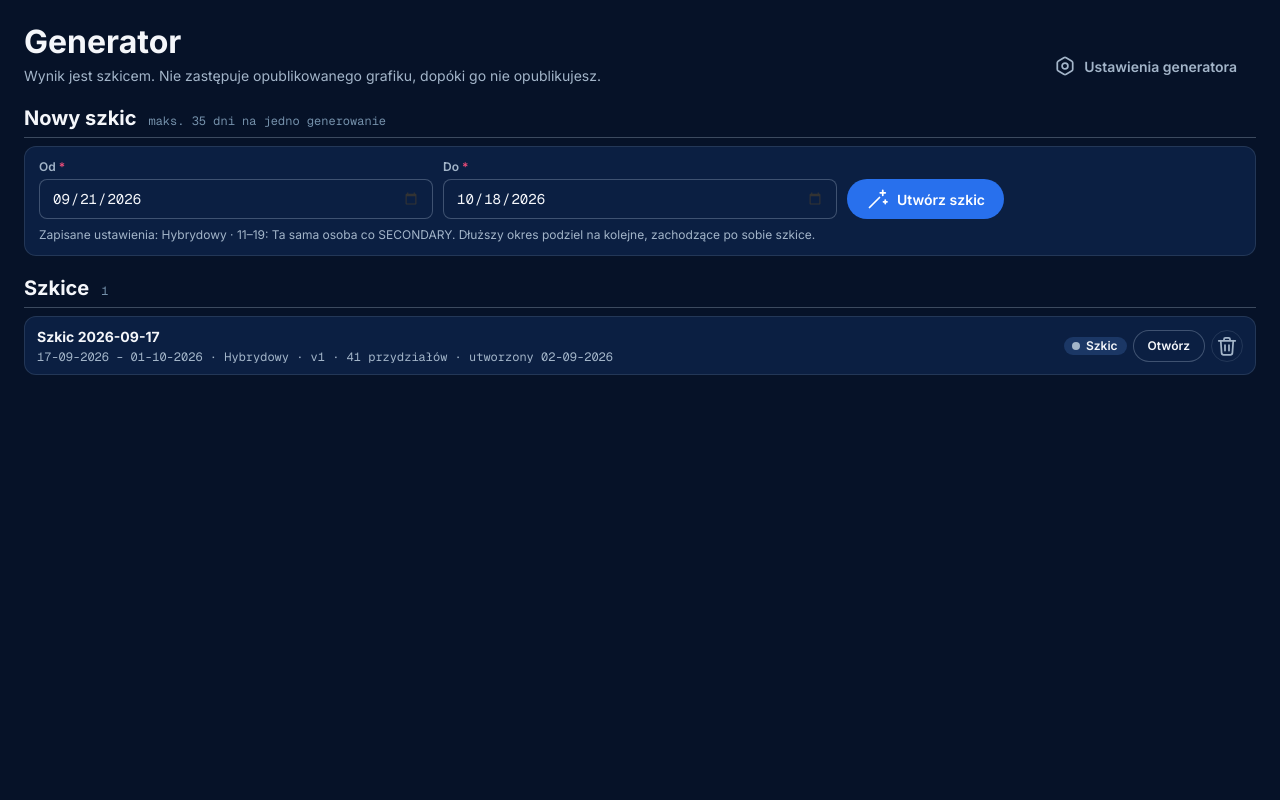
Test: GeneratorPanel draft persistence › explains a solver status that is not a full solution
Click the button "Otwórz": (1169,346) [1133,330,1205,362]
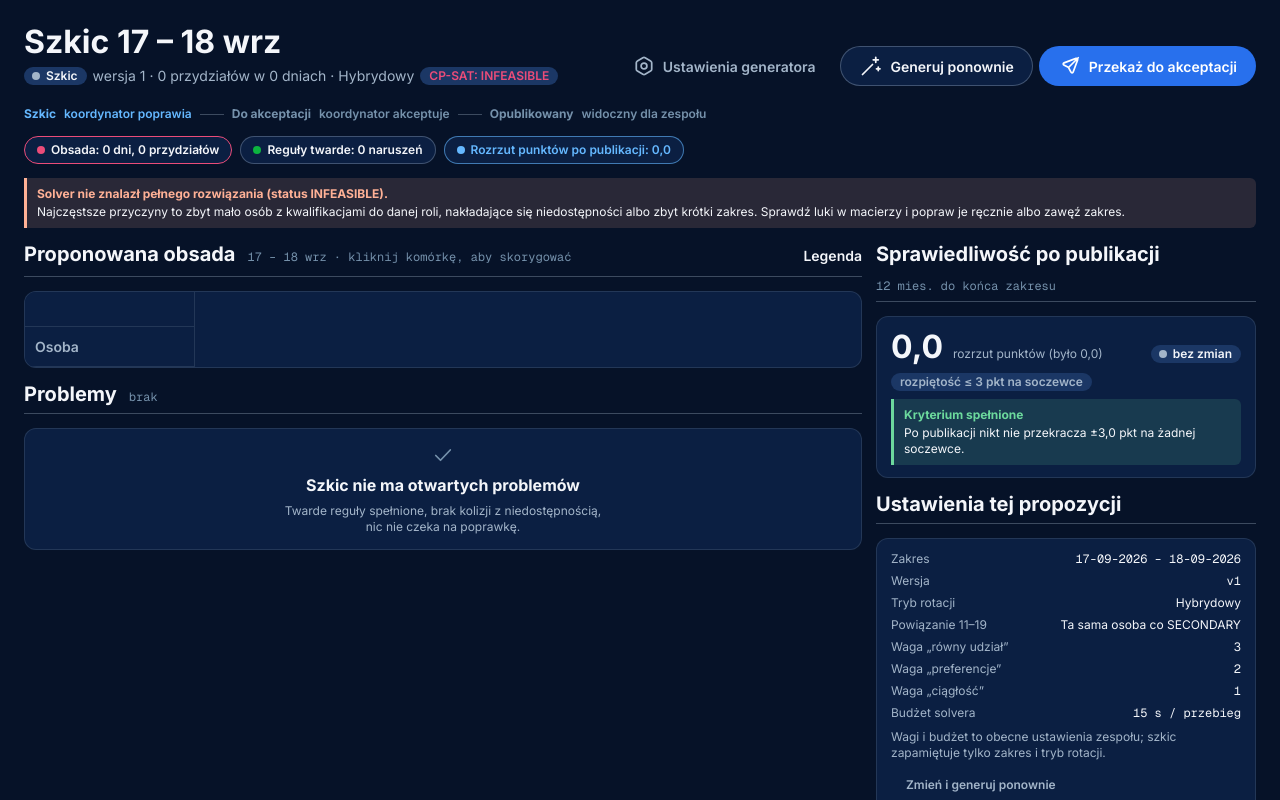
Check: the text "Solver nie znalazł pełnego rozwiązania (status INFEASIBLE)." is shown, box [37,186,388,201]
